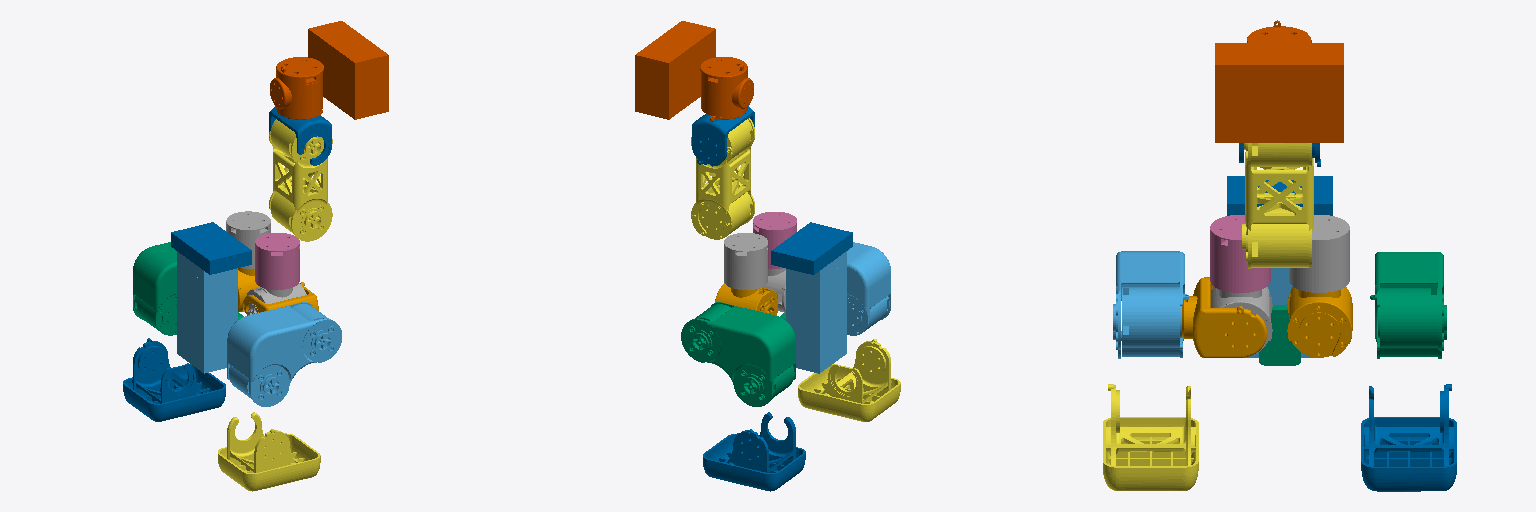
URDF robot description (robot):
<?xml version="1.0" encoding="UTF-8"?>
<robot name="robot">
  <link name="base_link">
    <inertial>
      <mass value="0.3951"/>
      <origin xyz="-0.0734586265124471 0.000486441903936063 -0.0452459972548476" rpy="0 0 0"/>
      <inertia ixx="0.00206701448914767" ixy="-0.000017753929898293" ixz="-0.000275030216998403" iyy="0.00228931721874652" iyz="-0.00000712463575302596" izz="0.00197753253347519"/>
    </inertial>
    <visual>
      <origin xyz="0 0 0" rpy="0 0 0"/>
      <geometry>
        <mesh filename="meshes/base_link.stl"/>
      </geometry>
    </visual>
    <collision>
      <origin xyz="0 0 0" rpy="0 0 0"/>
      <geometry>
        <mesh filename="meshes/base_link.stl"/>
      </geometry>
    </collision>
  </link>
  <link name="Battery">
    <inertial>
      <mass value="0.824"/>
      <origin xyz="4.26349321914354e-17 -8.17550471765571e-14 0.00000628264189153427" rpy="0 0 0"/>
      <inertia ixx="0.00161529331482984" ixy="-6.75150616807609e-20" ixz="-5.5883823599025e-23" iyy="0.000508185925841787" iyz="1.68719199840436e-15" izz="0.00177983561857326"/>
    </inertial>
    <visual>
      <origin xyz="0 0 0" rpy="0 0 0"/>
      <geometry>
        <mesh filename="meshes/Battery.stl"/>
      </geometry>
    </visual>
    <collision>
      <origin xyz="0 0 0" rpy="0 0 0"/>
      <geometry>
        <mesh filename="meshes/Battery.stl"/>
      </geometry>
    </collision>
  </link>
  <link name="IMU">
    <inertial>
      <mass value="0.0197"/>
      <origin xyz="-5.69376700152112e-18 0.0255003379415321 -0.00650008280672216" rpy="0 0 0"/>
      <inertia ixx="0.00000551869801625398" ixy="-4.36101982900203e-22" ixz="-7.52584075810316e-22" iyy="0.00000286102785328639" iyz="-4.1598508078085e-11" izz="0.00000782485558681647"/>
    </inertial>
    <visual>
      <origin xyz="0 0 0" rpy="0 0 0"/>
      <geometry>
        <mesh filename="meshes/IMU.stl"/>
      </geometry>
    </visual>
    <collision>
      <origin xyz="0 0 0" rpy="0 0 0"/>
      <geometry>
        <mesh filename="meshes/IMU.stl"/>
      </geometry>
    </collision>
  </link>
  <link name="neck_pitch">
    <inertial>
      <mass value="0.9505"/>
      <origin xyz="-0.0000540694111350035 0.0520000136391868 -0.0287362362669519" rpy="0 0 0"/>
      <inertia ixx="0.00281418521069114" ixy="5.7656912181228e-11" ixz="0.00000145959887159333" iyy="0.000484571495495534" iyz="-3.90496006997586e-10" izz="0.00273625848864728"/>
    </inertial>
    <visual>
      <origin xyz="0 0 0" rpy="0 0 0"/>
      <geometry>
        <mesh filename="meshes/neck_pitch.stl"/>
      </geometry>
    </visual>
    <collision>
      <origin xyz="0 0 0" rpy="0 0 0"/>
      <geometry>
        <mesh filename="meshes/neck_pitch.stl"/>
      </geometry>
    </collision>
  </link>
  <link name="head_pitch">
    <inertial>
      <mass value="0.0515"/>
      <origin xyz="-0.0175175786302144 -0.000356251952111052 -0.0211039133456007" rpy="0 0 0"/>
      <inertia ixx="0.000051758065104887" ixy="5.67938890848087e-7" ixz="-0.00000819693286195952" iyy="0.0000585190112634045" iyz="-6.79417781523763e-7" izz="0.0000267749630654638"/>
    </inertial>
    <visual>
      <origin xyz="0 0 0" rpy="0 0 0"/>
      <geometry>
        <mesh filename="meshes/head_pitch.stl"/>
      </geometry>
    </visual>
    <collision>
      <origin xyz="0 0 0" rpy="0 0 0"/>
      <geometry>
        <mesh filename="meshes/head_pitch.stl"/>
      </geometry>
    </collision>
  </link>
  <link name="head_yaw">
    <inertial>
      <mass value="0.446"/>
      <origin xyz="0.000207244894321298 0.0013682978573346 -0.0285728891764977" rpy="0 0 0"/>
      <inertia ixx="0.000220923927386006" ixy="1.79926191758019e-7" ixz="-5.11207969546733e-7" iyy="0.00021034094005011" iyz="5.69777681852459e-7" izz="0.000194671305005952"/>
    </inertial>
    <visual>
      <origin xyz="0 0 0" rpy="0 0 0"/>
      <geometry>
        <mesh filename="meshes/head_yaw.stl"/>
      </geometry>
    </visual>
    <collision>
      <origin xyz="0 0 0" rpy="0 0 0"/>
      <geometry>
        <mesh filename="meshes/head_yaw.stl"/>
      </geometry>
    </collision>
  </link>
  <link name="head_roll">
    <inertial>
      <mass value="0.772"/>
      <origin xyz="-0.0000869479370437931 0.00609783188461341 -0.00234564003281801" rpy="0 0 0"/>
      <inertia ixx="0.00385178282500068" ixy="-3.70688842893123e-7" ixz="-0.00000121347422639129" iyy="0.00435596298112291" iyz="-0.000275551661274759" izz="0.00205465141270419"/>
    </inertial>
    <visual>
      <origin xyz="0 0 0" rpy="0 0 0"/>
      <geometry>
        <mesh filename="meshes/head_roll.stl"/>
      </geometry>
    </visual>
    <collision>
      <origin xyz="0 0 0" rpy="0 0 0"/>
      <geometry>
        <mesh filename="meshes/head_roll.stl"/>
      </geometry>
    </collision>
  </link>
  <link name="left_hip">
    <inertial>
      <mass value="0.408"/>
      <origin xyz="-0.0000401866435841001 -0.000134815113372539 -0.0258588252788185" rpy="0 0 0"/>
      <inertia ixx="0.000181949525942832" ixy="-6.20141420119278e-7" ixz="-4.02717898504046e-7" iyy="0.00018005393845782" iyz="-0.00000135102926407099" izz="0.000165710195390923"/>
    </inertial>
    <visual>
      <origin xyz="0 0 0" rpy="0 0 0"/>
      <geometry>
        <mesh filename="meshes/left_hip.stl"/>
      </geometry>
    </visual>
    <collision>
      <origin xyz="0 0 0" rpy="0 0 0"/>
      <geometry>
        <mesh filename="meshes/left_hip.stl"/>
      </geometry>
    </collision>
  </link>
  <link name="left_hip_yaw">
    <inertial>
      <mass value="0.4703"/>
      <origin xyz="-0.000162504654684909 -0.000436199230086103 0.0350354624539029" rpy="0 0 0"/>
      <inertia ixx="0.000244757989815057" ixy="-0.00000197513499299847" ixz="3.05890581141079e-7" iyy="0.0002133039223041" iyz="-0.00000203867825739093" izz="0.000230781731886199"/>
    </inertial>
    <visual>
      <origin xyz="0 0 0" rpy="0 0 0"/>
      <geometry>
        <mesh filename="meshes/left_hip_yaw.stl"/>
      </geometry>
    </visual>
    <collision>
      <origin xyz="0 0 0" rpy="0 0 0"/>
      <geometry>
        <mesh filename="meshes/left_hip_yaw.stl"/>
      </geometry>
    </collision>
  </link>
  <link name="left_hip_roll">
    <inertial>
      <mass value="0.0792"/>
      <origin xyz="0.000170695599132458 -0.028552887229587 -0.02458901728807" rpy="0 0 0"/>
      <inertia ixx="0.0000836391597085295" ixy="-5.88889101832471e-7" ixz="5.3679906831142e-7" iyy="0.000070543942215542" iyz="-0.0000115770840006136" izz="0.000044545903223234"/>
    </inertial>
    <visual>
      <origin xyz="0 0 0" rpy="0 0 0"/>
      <geometry>
        <mesh filename="meshes/left_hip_roll.stl"/>
      </geometry>
    </visual>
    <collision>
      <origin xyz="0 0 0" rpy="0 0 0"/>
      <geometry>
        <mesh filename="meshes/left_hip_roll.stl"/>
      </geometry>
    </collision>
  </link>
  <link name="left_hip_pitch">
    <inertial>
      <mass value="0.9512"/>
      <origin xyz="-0.0197325179206721 0.0403566078498215 -0.0287768370234038" rpy="0 0 0"/>
      <inertia ixx="0.00182897725348143" ixy="0.000667369760724793" ixz="-4.04038472256075e-7" iyy="0.000985497309313017" iyz="-0.0000025163093934972" izz="0.00223357798505025"/>
    </inertial>
    <visual>
      <origin xyz="0 0 0" rpy="0 0 0"/>
      <geometry>
        <mesh filename="meshes/left_hip_pitch.stl"/>
      </geometry>
    </visual>
    <collision>
      <origin xyz="0 0 0" rpy="0 0 0"/>
      <geometry>
        <mesh filename="meshes/left_hip_pitch.stl"/>
      </geometry>
    </collision>
  </link>
  <link name="left_knee_pitch">
    <inertial>
      <mass value="0.5065"/>
      <origin xyz="-0.0788339119467065 0.000304310279606639 -0.0287450840915386" rpy="0 0 0"/>
      <inertia ixx="0.000295833645429614" ixy="-0.00000826045950751027" ixz="-0.0000365262413943822" iyy="0.000528372584984226" iyz="0.00000167956448048668" izz="0.000451105233104028"/>
    </inertial>
    <visual>
      <origin xyz="0 0 0" rpy="0 0 0"/>
      <geometry>
        <mesh filename="meshes/left_knee_pitch.stl"/>
      </geometry>
    </visual>
    <collision>
      <origin xyz="0 0 0" rpy="0 0 0"/>
      <geometry>
        <mesh filename="meshes/left_knee_pitch.stl"/>
      </geometry>
    </collision>
  </link>
  <link name="left_ankle_pitch_joint">
    <inertial>
      <mass value="0.1223"/>
      <origin xyz="0.034413149859108 -0.0112668895466216 -0.0259960335009241" rpy="0 0 0"/>
      <inertia ixx="0.000223144594033867" ixy="0.0000111166671169169" ixz="0.0000136484469378082" iyy="0.000152293246399646" iyz="-0.00000412709563114531" izz="0.000147888225195824"/>
    </inertial>
    <visual>
      <origin xyz="0 0 0" rpy="0 0 0"/>
      <geometry>
        <mesh filename="meshes/left_ankle_pitch_joint.stl"/>
      </geometry>
    </visual>
    <collision>
      <origin xyz="0 0 0" rpy="0 0 0"/>
      <geometry>
        <mesh filename="meshes/left_ankle_pitch_joint.stl"/>
      </geometry>
    </collision>
  </link>
  <link name="control-box">
    <inertial>
      <mass value="0.2234"/>
      <origin xyz="-0.00187061309814479 -0.00143119663000668 0.0418999938964852" rpy="0 0 0"/>
      <inertia ixx="0.000388662541970672" ixy="9.92643304068118e-18" ixz="-3.46331251390278e-17" iyy="0.000165688307606489" iyz="4.11194783574932e-19" izz="0.000316057512389643"/>
    </inertial>
    <visual>
      <origin xyz="0 0 0" rpy="0 0 0"/>
      <geometry>
        <mesh filename="meshes/control-box.stl"/>
      </geometry>
    </visual>
    <collision>
      <origin xyz="0 0 0" rpy="0 0 0"/>
      <geometry>
        <mesh filename="meshes/control-box.stl"/>
      </geometry>
    </collision>
  </link>
  <link name="right_hip">
    <inertial>
      <mass value="0.408"/>
      <origin xyz="-0.0000752462691967963 0.000118867189629555 -0.0258588253160049" rpy="0 0 0"/>
      <inertia ixx="0.000181486297806377" ixy="0.00000102376283351259" ixz="-7.54055256757014e-7" iyy="0.0001805171714334" iyz="0.00000119116058618144" izz="0.000165710198663554"/>
    </inertial>
    <visual>
      <origin xyz="0 0 0" rpy="0 0 0"/>
      <geometry>
        <mesh filename="meshes/right_hip.stl"/>
      </geometry>
    </visual>
    <collision>
      <origin xyz="0 0 0" rpy="0 0 0"/>
      <geometry>
        <mesh filename="meshes/right_hip.stl"/>
      </geometry>
    </collision>
  </link>
  <link name="right_hip_yaw">
    <inertial>
      <mass value="0.4699"/>
      <origin xyz="0.000282800052153476 -0.00000876163984789002 0.0349242715711091" rpy="0 0 0"/>
      <inertia ixx="0.000245921906869875" ixy="6.91398690657204e-7" ixz="-4.32408009508483e-7" iyy="0.000212749733776502" iyz="-0.00000107288385122643" izz="0.000227696724669161"/>
    </inertial>
    <visual>
      <origin xyz="0 0 0" rpy="0 0 0"/>
      <geometry>
        <mesh filename="meshes/right_hip_yaw.stl"/>
      </geometry>
    </visual>
    <collision>
      <origin xyz="0 0 0" rpy="0 0 0"/>
      <geometry>
        <mesh filename="meshes/right_hip_yaw.stl"/>
      </geometry>
    </collision>
  </link>
  <link name="right_hip_roll">
    <inertial>
      <mass value="0.0795"/>
      <origin xyz="0.000170596123859511 0.0285528247440874 -0.0245890619943807" rpy="0 0 0"/>
      <inertia ixx="0.0000839562172761504" ixy="5.91188377853703e-7" ixz="5.39155927278924e-7" iyy="0.0000708113699063371" iyz="0.0000116207062859651" izz="0.0000447147998121653"/>
    </inertial>
    <visual>
      <origin xyz="0 0 0" rpy="0 0 0"/>
      <geometry>
        <mesh filename="meshes/right_hip_roll.stl"/>
      </geometry>
    </visual>
    <collision>
      <origin xyz="0 0 0" rpy="0 0 0"/>
      <geometry>
        <mesh filename="meshes/right_hip_roll.stl"/>
      </geometry>
    </collision>
  </link>
  <link name="right_hip_pitch">
    <inertial>
      <mass value="0.9531"/>
      <origin xyz="0.0196418153731314 0.0405671332511318 -0.0288166727193262" rpy="0 0 0"/>
      <inertia ixx="0.00182573356918723" ixy="-0.000664244486452656" ixz="-0.00000133640780365652" iyy="0.000988250450472575" iyz="0.00000193523182227511" izz="0.00222984463026002"/>
    </inertial>
    <visual>
      <origin xyz="0 0 0" rpy="0 0 0"/>
      <geometry>
        <mesh filename="meshes/right_hip_pitch.stl"/>
      </geometry>
    </visual>
    <collision>
      <origin xyz="0 0 0" rpy="0 0 0"/>
      <geometry>
        <mesh filename="meshes/right_hip_pitch.stl"/>
      </geometry>
    </collision>
  </link>
  <link name="right_knee_pitch">
    <inertial>
      <mass value="0.5061"/>
      <origin xyz="0.0787743735458052 0.000360811992638816 -0.0287271168019714" rpy="0 0 0"/>
      <inertia ixx="0.000293560147654386" ixy="0.00000699413244751418" ixz="0.000038158595993926" iyy="0.000527488778986141" iyz="0.00000102568484097317" izz="0.000448858629155132"/>
    </inertial>
    <visual>
      <origin xyz="0 0 0" rpy="0 0 0"/>
      <geometry>
        <mesh filename="meshes/right_knee_pitch.stl"/>
      </geometry>
    </visual>
    <collision>
      <origin xyz="0 0 0" rpy="0 0 0"/>
      <geometry>
        <mesh filename="meshes/right_knee_pitch.stl"/>
      </geometry>
    </collision>
  </link>
  <link name="right_ankle_pitch">
    <inertial>
      <mass value="0.122"/>
      <origin xyz="-0.0344127347109582 -0.0112671430416434 -0.025997086206225" rpy="0 0 0"/>
      <inertia ixx="0.000222592568121709" ixy="-0.0000110886674332367" ixz="-0.0000136153291887892" iyy="0.00015192048597627" iyz="-0.00000412368813982809" izz="0.000147521720888117"/>
    </inertial>
    <visual>
      <origin xyz="0 0 0" rpy="0 0 0"/>
      <geometry>
        <mesh filename="meshes/right_ankle_pitch.stl"/>
      </geometry>
    </visual>
    <collision>
      <origin xyz="0 0 0" rpy="0 0 0"/>
      <geometry>
        <mesh filename="meshes/right_ankle_pitch.stl"/>
      </geometry>
    </collision>
  </link>
  <link name="power-strip">
    <inertial>
      <mass value="0.135"/>
      <origin xyz="-1.4210854715202e-16 -9.31758120497715e-17 0.00000500488281267053" rpy="0 0 0"/>
      <inertia ixx="0.000116573610398802" ixy="7.14088639091385e-21" ixz="1.03845295408376e-18" iyy="0.0000483582727021339" iyz="-2.14349702056349e-20" izz="0.000155931882538752"/>
    </inertial>
    <visual>
      <origin xyz="0 0 0" rpy="0 0 0"/>
      <geometry>
        <mesh filename="meshes/power-strip.stl"/>
      </geometry>
    </visual>
    <collision>
      <origin xyz="0 0 0" rpy="0 0 0"/>
      <geometry>
        <mesh filename="meshes/power-strip.stl"/>
      </geometry>
    </collision>
  </link>
  <joint name="Battery" type="fixed">
    <parent link="base_link"/>
    <child link="Battery"/>
    <origin xyz="-0.112233514942756 3.62276361425785e-17 -0.104600412257425" rpy="1.5708 -1.22464679914322e-16 -1.5707963267949"/>
    <axis xyz="0 0 1"/>
  </joint>
  <joint name="IMU" type="fixed">
    <parent link="base_link"/>
    <child link="IMU"/>
    <origin xyz="-0.0812282641676487 -1.77047636740682e-17 -0.173100298369242" rpy="1.5708 -1.22464679914322e-16 -1.5707963267949"/>
    <axis xyz="0 0 1"/>
  </joint>
  <joint name="neck_pitch_joint" type="revolute">
    <parent link="base_link"/>
    <child link="neck_pitch"/>
    <origin xyz="0.0250711026842794 0.0291000003814697 0.000100089039545225" rpy="1.5707963267949 0.0000036732051032936 3.14159265358979"/>
    <axis xyz="0 0 1"/>
    <limit lower="-0.3" upper="1.3" effort="10" velocity="1"/>
  </joint>
  <joint name="head_pitch_joint" type="revolute">
    <parent link="neck_pitch"/>
    <child link="head_pitch"/>
    <origin xyz="8.5265128291212e-17 0.104000015258789 -1.56319401867222e-16" rpy="-5.95588146367427e-16 -1.41112749808239e-14 -1.5707963267949"/>
    <axis xyz="0 0 -1"/>
    <limit lower="-1.2" upper="1.2" effort="10" velocity="1"/>
  </joint>
  <joint name="head_yaw_joint" type="revolute">
    <parent link="head_pitch"/>
    <child link="head_yaw"/>
    <origin xyz="-0.04 -2.8421709430404e-17 -0.0295" rpy="1.59461615321817e-16 1.5707963267949 0"/>
    <axis xyz="0 0 1"/>
    <limit lower="-2" upper="2" effort="10" velocity="1"/>
  </joint>
  <joint name="head_roll_joint" type="revolute">
    <parent link="head_yaw"/>
    <child link="head_roll"/>
    <origin xyz="0.000019767701625824 0.035 -0.0295" rpy="-1.5707963267949 -1.27177753395167e-14 -3.14159265358975"/>
    <axis xyz="0 0 1"/>
    <limit lower="-0.5" upper="0.5" effort="10" velocity="1"/>
  </joint>
  <joint name="left_hip" type="fixed">
    <parent link="base_link"/>
    <child link="left_hip"/>
    <origin xyz="-0.0299997072664207 0.037 -0.0701001101955507" rpy="-3.14158898038469 -1.22464679914322e-16 -1.5707963267949"/>
    <axis xyz="0 0 -1"/>
  </joint>
  <joint name="left_hip_yaw_joint" type="revolute">
    <parent link="left_hip"/>
    <child link="left_hip_yaw"/>
    <origin xyz="7.105427357601e-18 0 0.002" rpy="-1.98287130699561e-16 -2.832769343194e-16 4.73323159402561e-33"/>
    <axis xyz="0 0 -1"/>
    <limit lower="-1.2" upper="0.5" effort="10" velocity="1"/>
  </joint>
  <joint name="left_hip_roll_joint" type="revolute">
    <parent link="left_hip_yaw"/>
    <child link="left_hip_roll"/>
    <origin xyz="0.0000197677612304688 -0.0294999923706055 0.037" rpy="1.5707963267949 1.5707963267949 0"/>
    <axis xyz="0 0 -1"/>
    <limit lower="-0.12" upper="1.5" effort="10" velocity="1"/>
  </joint>
  <joint name="left_hip_pitch_joint" type="revolute">
    <parent link="left_hip_roll"/>
    <child link="left_hip_pitch"/>
    <origin xyz="-1.4210854715202e-17 -0.055 -0.0294999923706055" rpy="-1.5707963267949 1.81578280849337e-16 -2.832769343194e-16"/>
    <axis xyz="0 0 1"/>
    <limit lower="-3" upper="3" effort="10" velocity="1"/>
  </joint>
  <joint name="left_knee_pitch_joint" type="revolute">
    <parent link="left_hip_pitch"/>
    <child link="left_knee_pitch"/>
    <origin xyz="-0.0445292854309082 0.0760231628417968 -8.5265128291212e-17" rpy="-3.69778549322349e-32 -1.11184632757625e-32 1.65436122510606e-24"/>
    <axis xyz="0 0 -1"/>
    <limit lower="-1.2" upper="1.4" effort="10" velocity="1"/>
  </joint>
  <joint name="left_ankle_pitch_joint" type="revolute">
    <parent link="left_knee_pitch"/>
    <child link="left_ankle_pitch_joint"/>
    <origin xyz="-0.088 -3.81469730825756e-9 -0.0582500076293945" rpy="3.14159265358979 -8.4821039081362e-14 -3.14159265358979"/>
    <axis xyz="0 0 -1"/>
    <limit lower="-1.5" upper="1.3" effort="10" velocity="1"/>
  </joint>
  <joint name="control-box" type="fixed">
    <parent link="head_roll"/>
    <child link="control-box"/>
    <origin xyz="-0.00145096254348755 -0.033 0.103760635375977" rpy="-1.5707963267949 1.5707963267949 0"/>
    <axis xyz="0 0 1"/>
  </joint>
  <joint name="right_hip" type="fixed">
    <parent link="base_link"/>
    <child link="right_hip"/>
    <origin xyz="-0.0299997072664207 -0.037 -0.0701001101955507" rpy="-3.14158898038469 -1.22464679914322e-16 -1.5707963267949"/>
    <axis xyz="0 0 1"/>
  </joint>
  <joint name="right_hip_yaw_joint" type="revolute">
    <parent link="right_hip"/>
    <child link="right_hip_yaw"/>
    <origin xyz="7.105427357601e-18 0 0.002" rpy="1.05266620941694e-16 -2.27765783088142e-16 3.80570410308943e-33"/>
    <axis xyz="0 0 -1"/>
    <limit lower="-0.5" upper="1.2" effort="10" velocity="1"/>
  </joint>
  <joint name="right_hip_roll_joint" type="revolute">
    <parent link="right_hip_yaw"/>
    <child link="right_hip_roll"/>
    <origin xyz="-0.0000197677612304688 -0.0289999923706055 0.037" rpy="1.5707963267949 1.5707963267949 0"/>
    <axis xyz="0 0 -1"/>
    <limit lower="-1.2" upper="0.2" effort="10" velocity="1"/>
  </joint>
  <joint name="right_hip_pitch_joint" type="revolute">
    <parent link="right_hip_roll"/>
    <child link="right_hip_pitch"/>
    <origin xyz="0 0.055 -0.0294999923706055" rpy="-1.5707963267949 1.21975470791918e-16 -3.14159265358968"/>
    <axis xyz="0 0 1"/>
    <limit lower="-3" upper="2" effort="10" velocity="1"/>
  </joint>
  <joint name="right_knee_pitch_joint" type="revolute">
    <parent link="right_hip_pitch"/>
    <child link="right_knee_pitch"/>
    <origin xyz="0.0445292854309082 0.0760231628417969 3.14059889205964e-15" rpy="-5.70134912181554e-16 1.84903226627467e-15 -1.65447560993731e-24"/>
    <axis xyz="0 0 -1"/>
    <limit lower="-1.5" upper="1.3" effort="10" velocity="1"/>
  </joint>
  <joint name="right_ankle_pitch_joint" type="revolute">
    <parent link="right_knee_pitch"/>
    <child link="right_ankle_pitch"/>
    <origin xyz="0.088 -3.81469681087765e-9 -0.0582500076293945" rpy="-3.14159265358979 3.60903798166112e-16 3.14159265358979"/>
    <axis xyz="0 0 -1"/>
    <limit lower="-1.3" upper="1.5" effort="10" velocity="1"/>
  </joint>
  <joint name="power-strip" type="fixed">
    <parent link="base_link"/>
    <child link="power-strip"/>
    <origin xyz="-0.106009782737541 -9.95106469046148e-17 -0.0220953845130115" rpy="-3.14159265358979 -0.00000367320510319402 2.24918943612926e-22"/>
    <axis xyz="0 0 1"/>
  </joint>
</robot>

--- What the picture shows (computed from the rendered views, not written in the file) ---
3 views of the same robot in one strip: view 1: azimuth 30°, elevation 25°; view 2: azimuth 150°, elevation 25°; view 3: azimuth 270°, elevation 25° (orthographic).
Robot: robot — 21 links, 20 joints (14 revolute, 6 fixed); root link base_link; default pose: every joint at zero.
Visible links, largest first — view 1: right_hip_pitch, control-box, Battery, neck_pitch, left_ankle_pitch_joint, right_ankle_pitch, left_hip_pitch, head_yaw, power-strip, right_hip, head_pitch, left_hip (+3 smaller); view 2: left_hip_pitch, Battery, control-box, right_ankle_pitch, neck_pitch, left_ankle_pitch_joint, right_hip_pitch, head_yaw, power-strip, left_hip, head_pitch, right_hip (+2 smaller); view 3: control-box, neck_pitch, left_ankle_pitch_joint, right_ankle_pitch, left_hip_pitch, right_hip_pitch, right_hip_roll, left_hip_yaw, left_hip, right_hip, power-strip, IMU (+3 smaller).
Boxes of the visible links, x1,y1,x2,y2 form: right_hip_pitch: (227, 302, 341, 406); control-box: (308, 21, 388, 119); Battery: (177, 251, 237, 373); neck_pitch: (269, 119, 332, 241); left_ankle_pitch_joint: (123, 338, 225, 421); right_ankle_pitch: (218, 412, 320, 491); left_hip_pitch: (133, 242, 176, 335); head_yaw: (270, 57, 323, 119); power-strip: (171, 222, 251, 274); right_hip: (255, 233, 299, 289); head_pitch: (269, 106, 331, 165); left_hip: (226, 211, 270, 268); left_hip_pitch: (681, 302, 795, 406); Battery: (786, 251, 846, 373); control-box: (635, 21, 715, 119); right_ankle_pitch: (798, 339, 900, 421); neck_pitch: (691, 118, 754, 239); left_ankle_pitch_joint: (703, 412, 805, 491); right_hip_pitch: (847, 242, 890, 335); head_yaw: (700, 57, 753, 120); power-strip: (771, 222, 852, 274); left_hip: (724, 233, 767, 289); head_pitch: (692, 106, 754, 166); right_hip: (753, 212, 796, 268); control-box: (1215, 43, 1343, 142); neck_pitch: (1242, 143, 1313, 268); left_ankle_pitch_joint: (1361, 384, 1456, 491); right_ankle_pitch: (1103, 384, 1198, 490); left_hip_pitch: (1370, 252, 1446, 358); right_hip_pitch: (1113, 251, 1188, 358); right_hip_roll: (1182, 277, 1266, 357); left_hip_yaw: (1287, 287, 1352, 357); left_hip: (1289, 215, 1349, 292); right_hip: (1210, 215, 1270, 292); power-strip: (1227, 176, 1332, 215); IMU: (1259, 305, 1300, 365).
Bounding box of the posed robot: 0.2682 × 0.3323 × 0.5171 m (x, y, z).
16 mesh visuals loaded from 21 distinct referenced files (16 binary STL); not drawn: 5 (reference not matched to a file when rendering).
